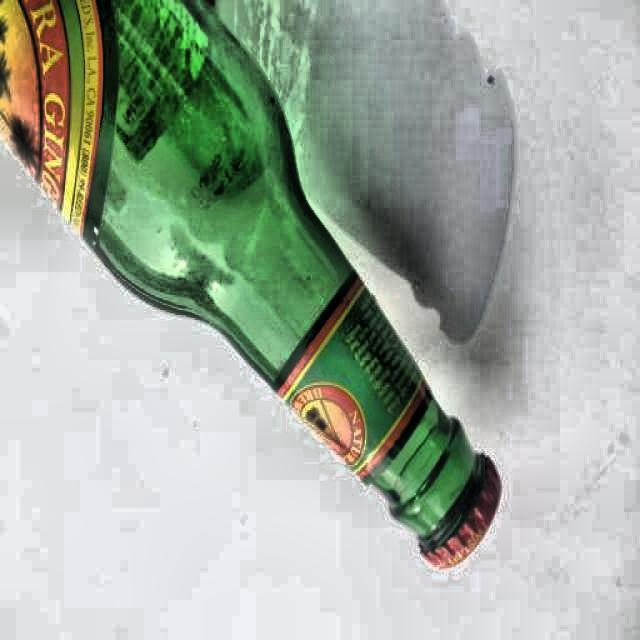glass: (0, 0, 503, 572)
